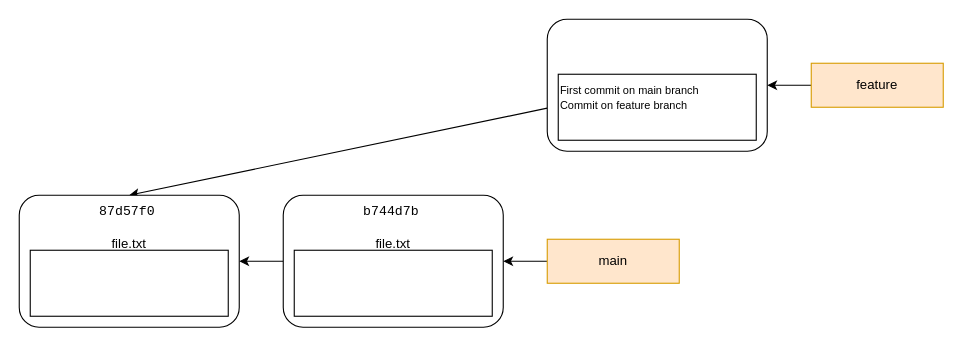
This 963x347 diagram has some shape labels left out. The box of each missing label's shape, as (x1, y1, x2, y2) in pixels:
6f7e6de file.txt: (546, 18, 767, 151)
First commit on main branch: (29, 249, 228, 316)
First commit on main branch Second commit on main branch: (293, 249, 492, 316)
